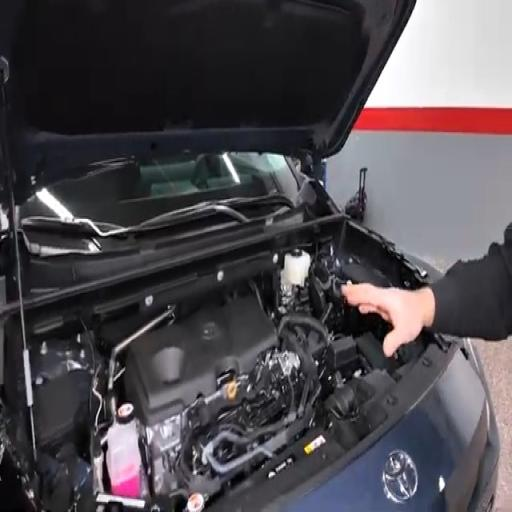bumper: (286, 352, 499, 511)
emblem: (383, 450, 418, 503)
hood: (0, 0, 414, 201)
windshield: (19, 153, 298, 226)
